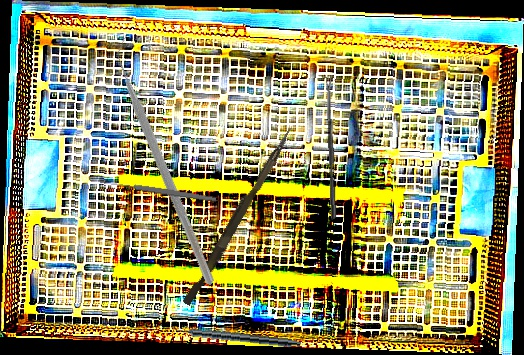Chopper: (36, 34, 301, 286)
Handpiece: (169, 323, 302, 349)
Pusher: (182, 123, 294, 309)
Surgical Spoon: (99, 177, 217, 204), (326, 76, 337, 220)
